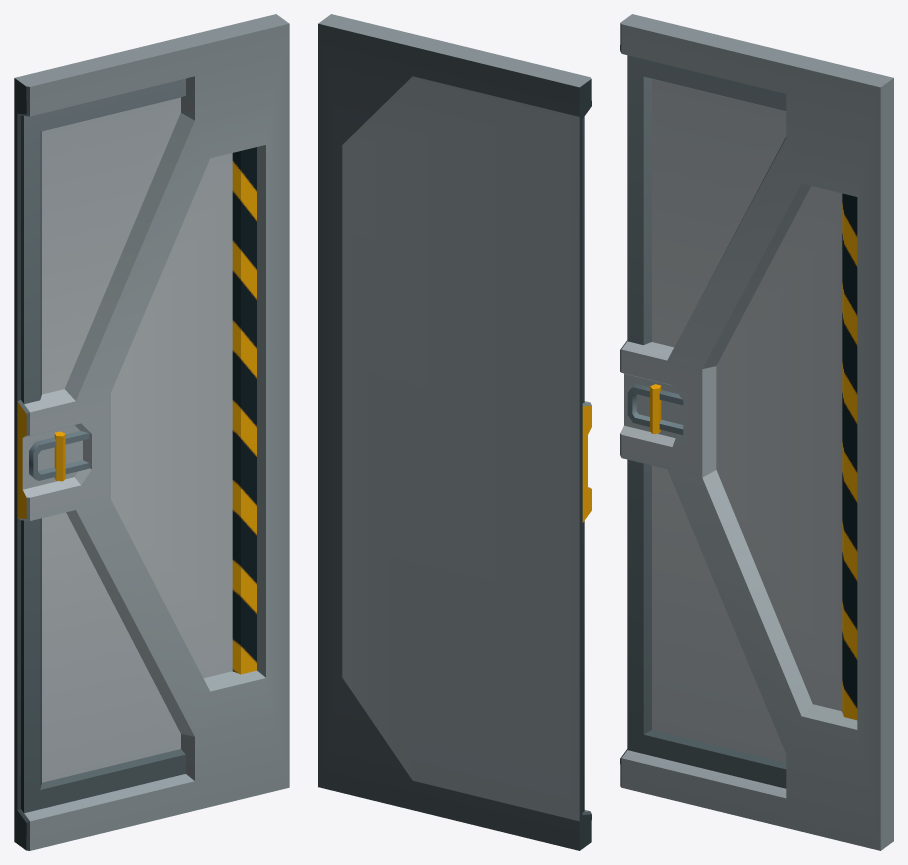
File: Door_panel_007.fbx
3 views of the same model, side by side, from view 1: azimuth 30°, elevation 25°; view 2: azimuth 150°, elevation 25°; view 3: azimuth 330°, elevation 25° (orthographic).
Parts seen in each view (by area): view 1: Door_panel_007; view 2: Door_panel_007; view 3: Door_panel_007.
Boxes of the visible parts, x1=… form: Door_panel_007: x1=14, y1=14, x2=289, y2=850; Door_panel_007: x1=318, y1=14, x2=591, y2=850; Door_panel_007: x1=620, y1=14, x2=893, y2=850.
Bounding box in the file's own units: 115 × 10.77 × 320.
